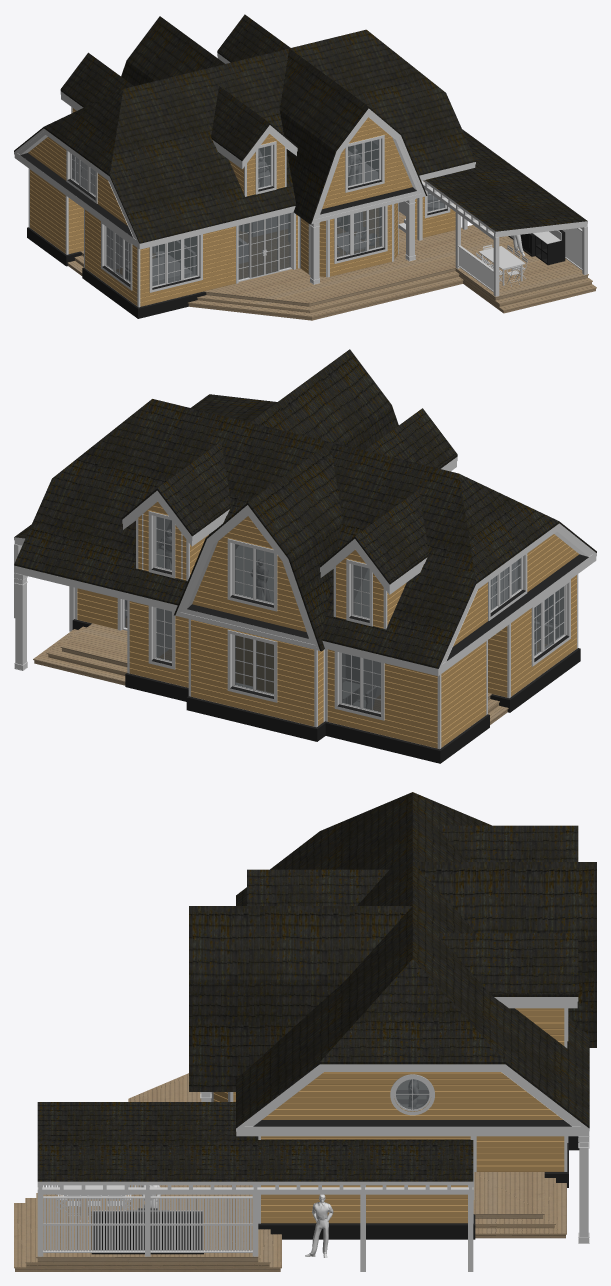
Rendered from suburban-bogdan.glb.
The picture shows the model from 3 angles, top to bottom: view 1: azimuth 30°, elevation 25°; view 2: azimuth 150°, elevation 25°; view 3: azimuth 270°, elevation 25°; orthographic projection. The views are drawn at different scales.
Visible parts, largest first — view 1: roof_roof_0, white_white_0, floor_floor_0, siding_siding_0, glass_glass_0, object 3; view 2: roof_roof_0, siding_siding_0, white_white_0, glass_glass_0, object 3, floor_floor_0; view 3: roof_roof_0, white_white_0, siding_siding_0, floor_floor_0, object 3, glass_glass_0.
Boxes of the visible parts, box(x1,y1,x2,y2) form: roof_roof_0: box(14, 14, 587, 243); white_white_0: box(14, 53, 587, 307); floor_floor_0: box(30, 208, 596, 320); siding_siding_0: box(28, 108, 455, 306); glass_glass_0: box(72, 139, 444, 286); object 3: box(20, 153, 565, 318); roof_roof_0: box(14, 349, 596, 668); siding_siding_0: box(77, 501, 579, 748); white_white_0: box(14, 456, 596, 749); glass_glass_0: box(124, 516, 563, 712); object 3: box(72, 554, 588, 763); floor_floor_0: box(33, 618, 576, 747); roof_roof_0: box(37, 792, 596, 1181); white_white_0: box(37, 997, 589, 1271); siding_siding_0: box(213, 1008, 564, 1223); floor_floor_0: box(14, 1073, 566, 1271); object 3: box(91, 1120, 579, 1254); glass_glass_0: box(396, 1079, 429, 1109).
Size of the model in its own units: 16.43 by 7.45 by 15.58.
Materials: 6 (2 with a texture image).
